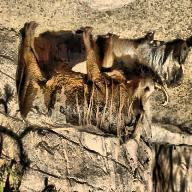boar: (9, 29, 153, 149), (132, 29, 192, 88)
